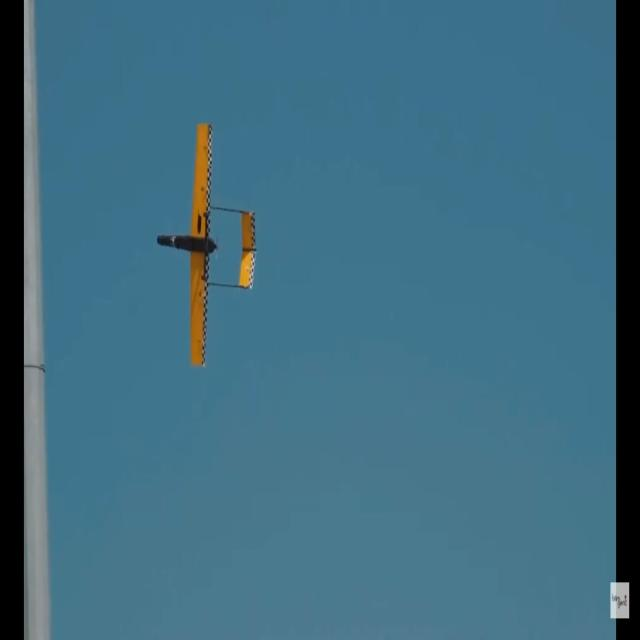iha: (188, 117, 226, 375)
